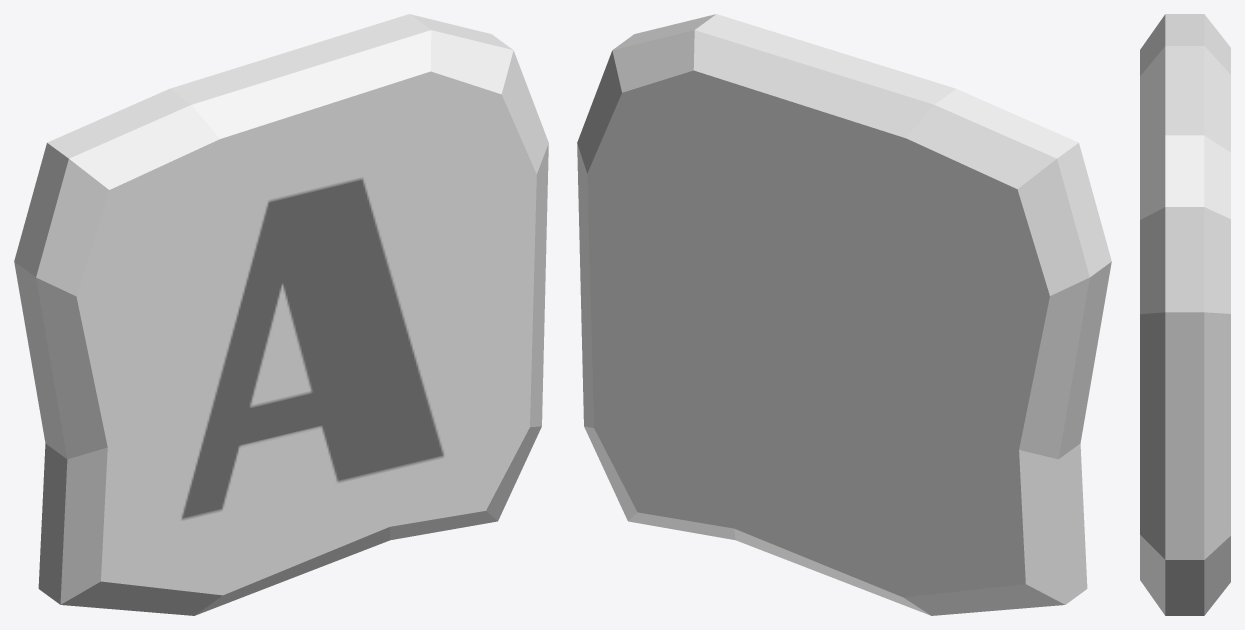
The model's file is LetterTile.fbx.
The picture shows the model from 3 angles, left to right: view 1: azimuth 30°, elevation 25°; view 2: azimuth 150°, elevation 25°; view 3: azimuth 270°, elevation 25°; orthographic projection. The views are drawn at different scales.
Visible parts, largest first — view 1: Cube; view 2: Cube; view 3: Cube.
Part boxes in pixels (box(x1,y1,x2,y2)): Cube: box(14, 14, 548, 615); Cube: box(577, 14, 1111, 615); Cube: box(1140, 14, 1230, 615).
Bounding box in the file's own units: 1.15 × 1.13 × 0.1986.
